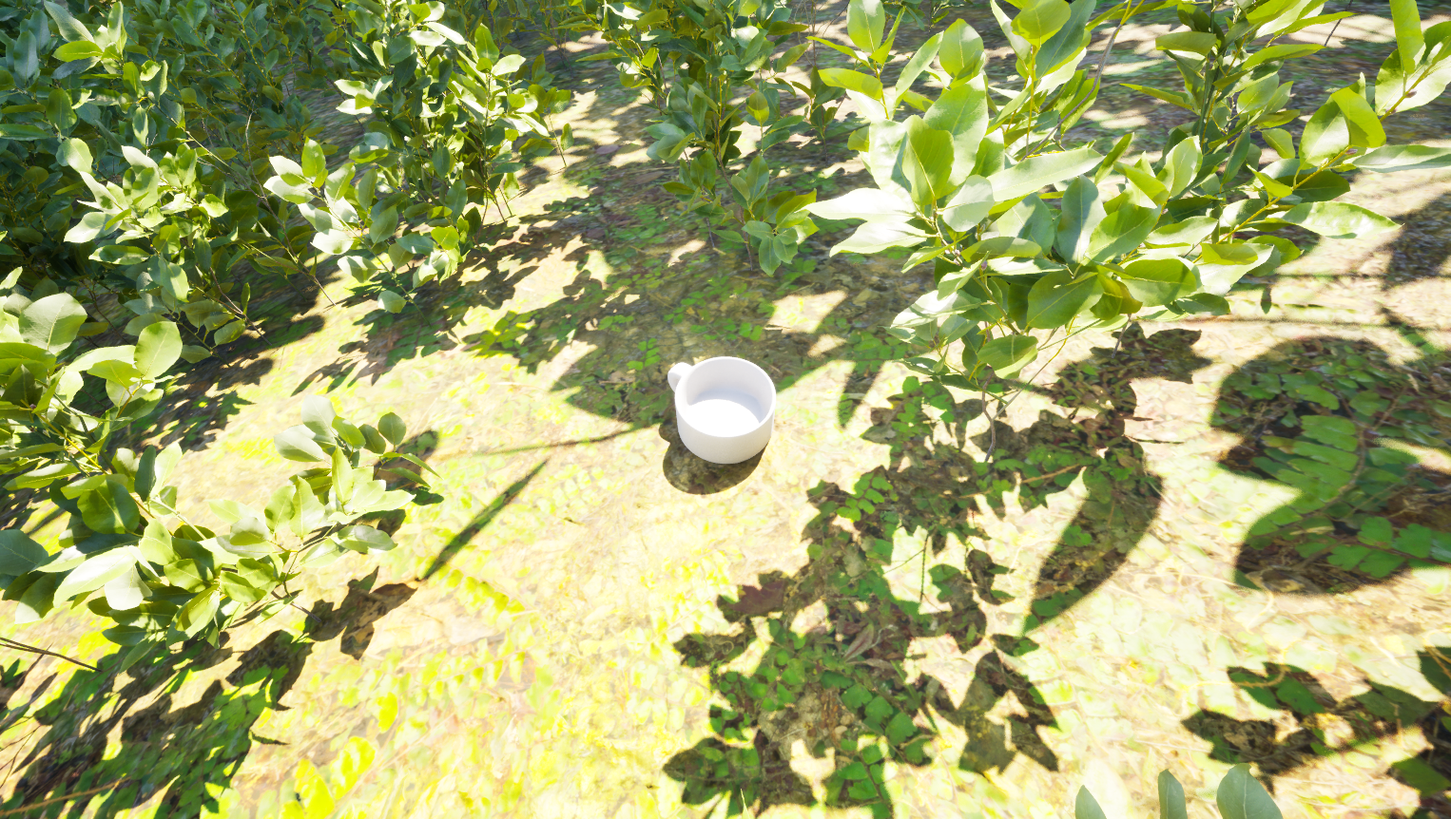Teacup: (662, 337, 790, 475)
